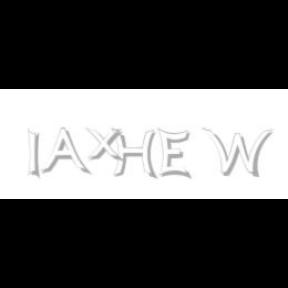A: (40, 128, 88, 176)
E: (158, 128, 190, 180)
H: (111, 128, 157, 180)
I: (28, 128, 40, 180)
W: (201, 128, 273, 178)
x: (85, 128, 127, 162)
